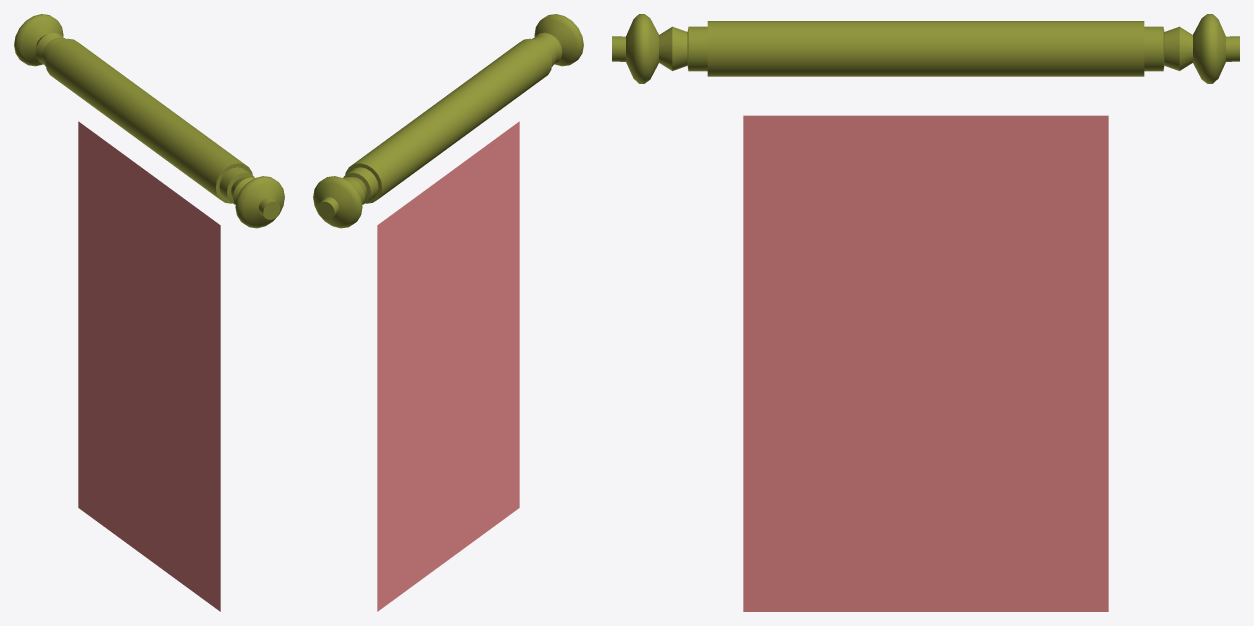
File: NewScroll 1.FBX
3 views of the same model, side by side, from view 1: azimuth 30°, elevation 25°; view 2: azimuth 150°, elevation 25°; view 3: azimuth 270°, elevation 25° (orthographic). The views are drawn at different scales.
Parts seen in each view (by area): view 1: Plane001, Cylinder001; view 2: Plane001, Cylinder001; view 3: Plane001, Cylinder001.
Boxes of the visible parts, x1,y1,x2,y2 form: Plane001: [78, 121, 220, 611]; Cylinder001: [14, 14, 284, 228]; Plane001: [377, 121, 519, 611]; Cylinder001: [313, 14, 583, 228]; Plane001: [743, 115, 1108, 611]; Cylinder001: [612, 14, 1239, 83].
Bounding box in the file's own units: 26.64 × 249 × 239.
